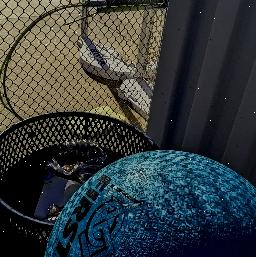algae: (34, 141, 256, 257)
